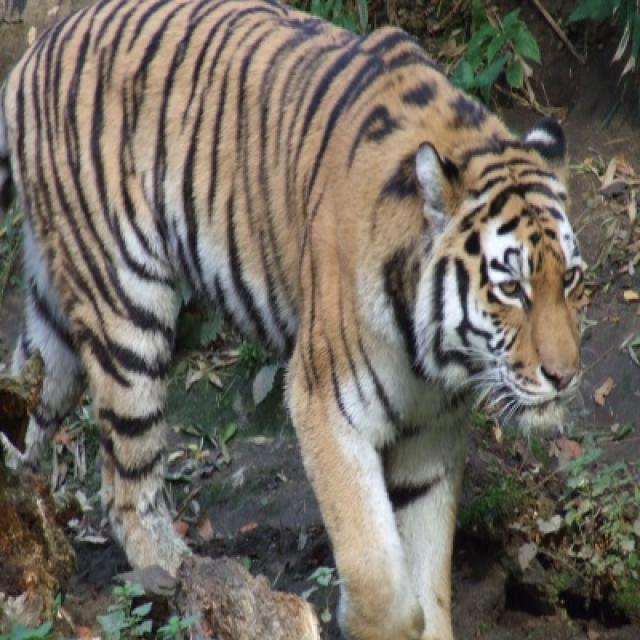Tiger: (0, 0, 594, 638)
